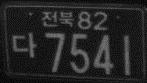1: (122, 33, 132, 77)
2: (93, 10, 108, 31)
4: (92, 34, 114, 76)
5: (69, 32, 90, 74)
7: (44, 31, 65, 73)
8: (77, 11, 91, 30)
다: (11, 30, 37, 59)
전북_O: (41, 10, 74, 27)
